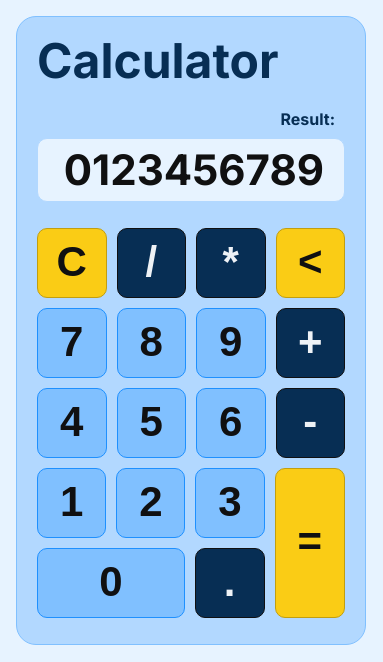
Test: Test Component: "Index"; Behavior › Test If Symbol Buttons Adds Symbol Characters On Calculator Expression
Click the button "C".
click(72, 262)  # box [37,228,106,298]
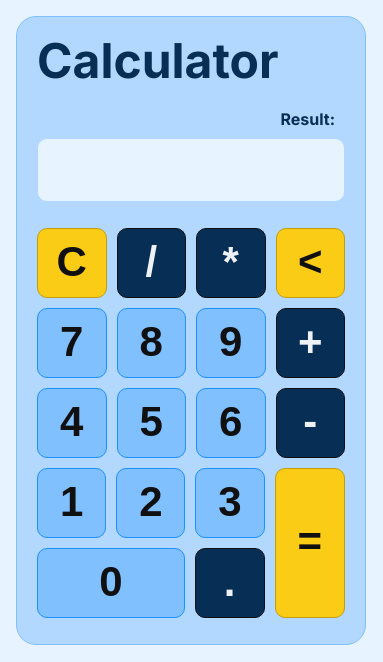
Click the button ".".
click(230, 582)  # box [195,548,265,618]
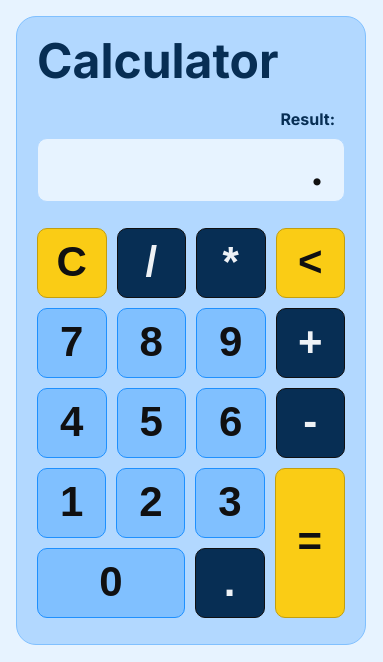
Result: the heading with test id "viewfinder_element_test_id" reads "." at [310,144,324,194]
